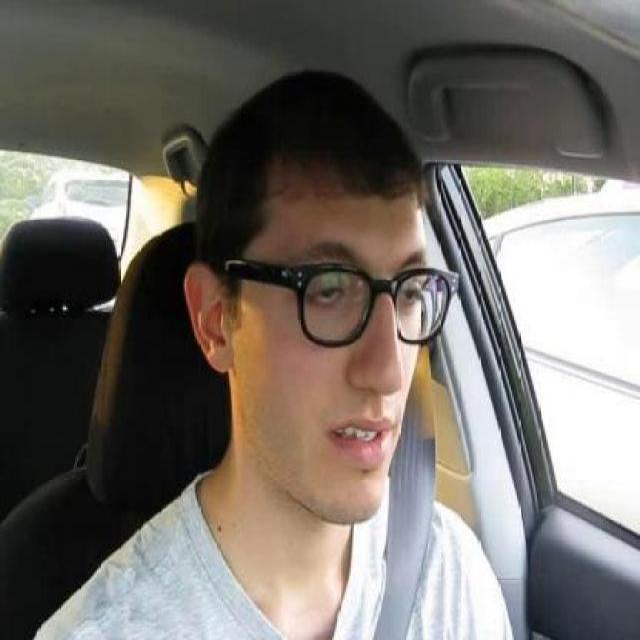seatbelt: (158, 318, 472, 640)
